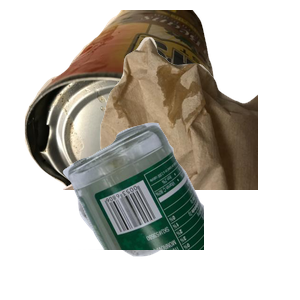glass: (60, 120, 300, 300)
metal: (22, 10, 251, 190)
plastic: (75, 154, 248, 300)
trash: (60, 35, 300, 215)
